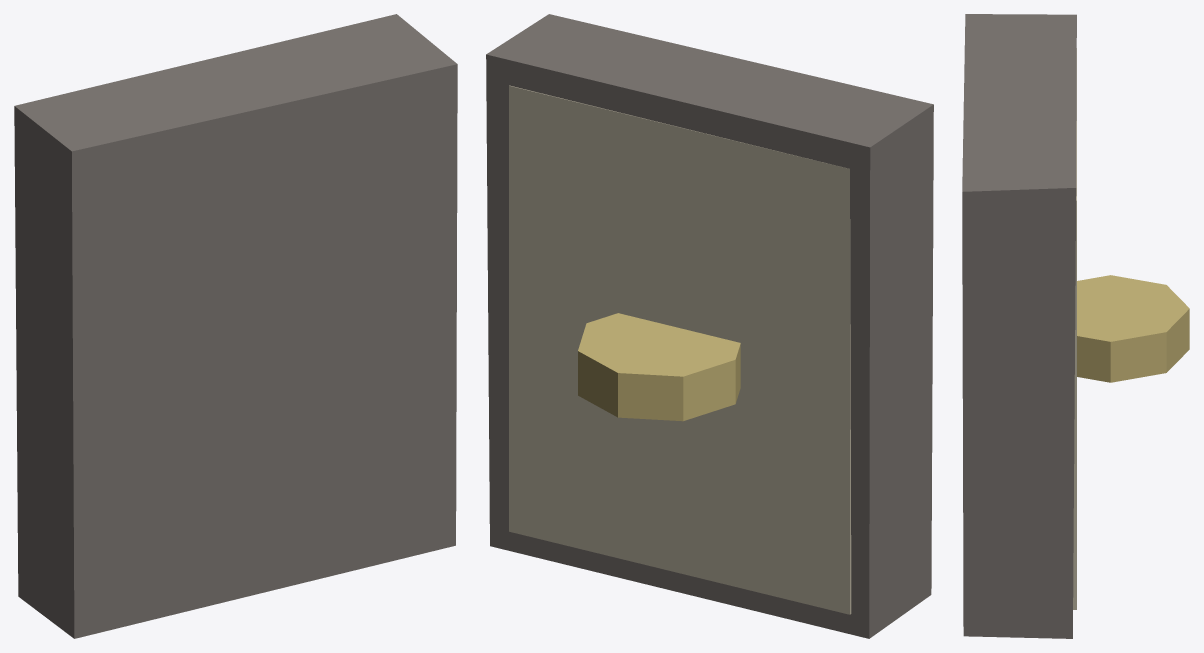
The model's file is codex.glb.
3 renders of one model, left to right at view 1: azimuth 30°, elevation 25°; view 2: azimuth 150°, elevation 25°; view 3: azimuth 270°, elevation 25°, orthographic. The views are drawn at different scales.
Visible parts, largest first — view 1: codex; view 2: codex; view 3: codex.
Part boxes in pixels (x1=…): codex: x1=14, y1=14, x2=457, y2=638; codex: x1=486, y1=14, x2=933, y2=638; codex: x1=962, y1=14, x2=1189, y2=638.
Size of the model in its own units: 0.1818 by 0.2214 by 0.1008.
